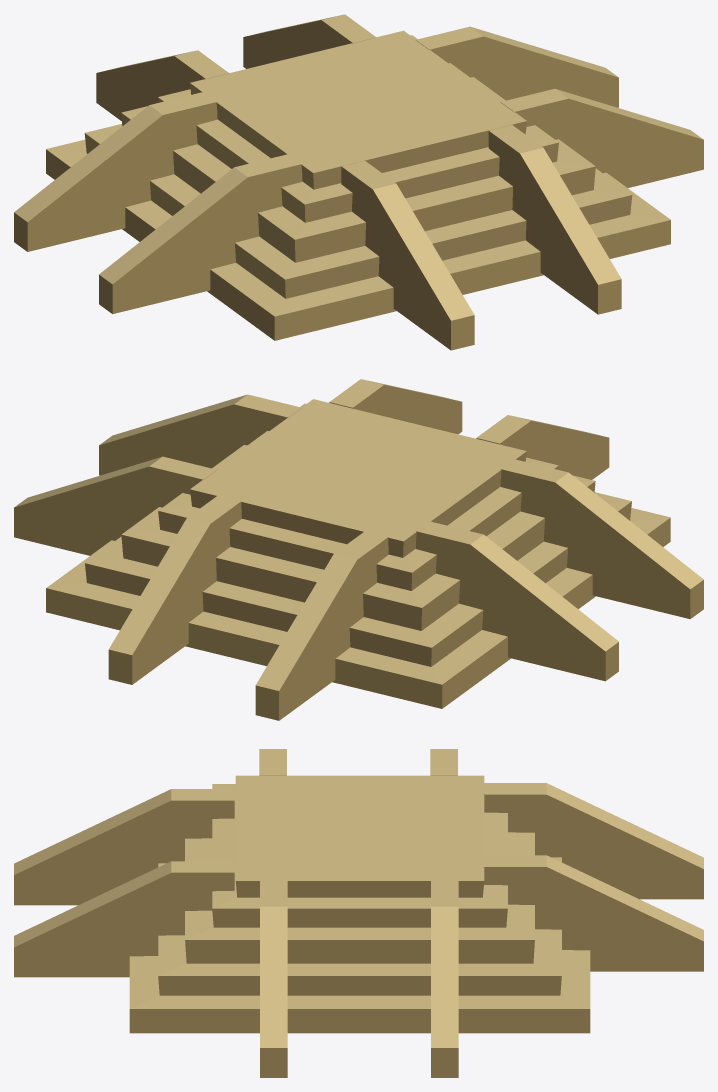
Rendered from TEMPLE.fbx.
3 renders of one model, top to bottom at view 1: azimuth 30°, elevation 25°; view 2: azimuth 150°, elevation 25°; view 3: azimuth 270°, elevation 25°, orthographic.
Parts seen in each view (by area): view 1: Cube.017; view 2: Cube.017; view 3: Cube.017.
Part boxes in pixels (x1,y1,x2,y2): Cube.017: [14, 14, 703, 350]; Cube.017: [14, 379, 703, 720]; Cube.017: [14, 749, 703, 1077].
Bounding box in the file's own units: 10117 × 1753 × 10146.
